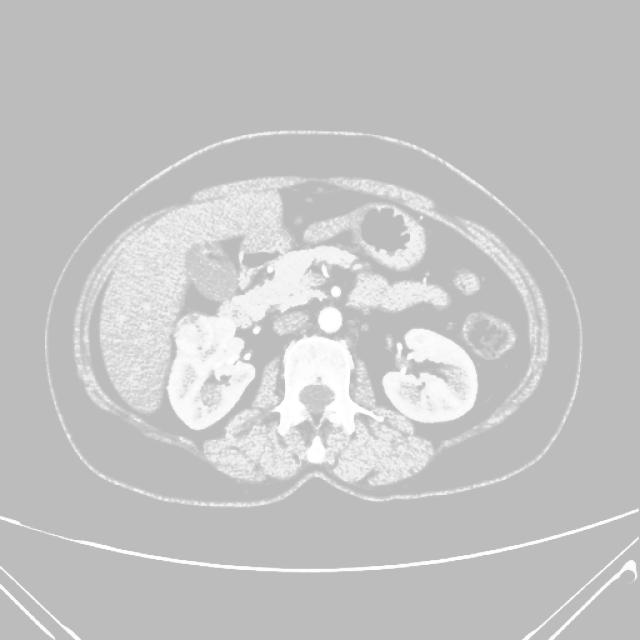TUMOR: (147, 197, 499, 429)
